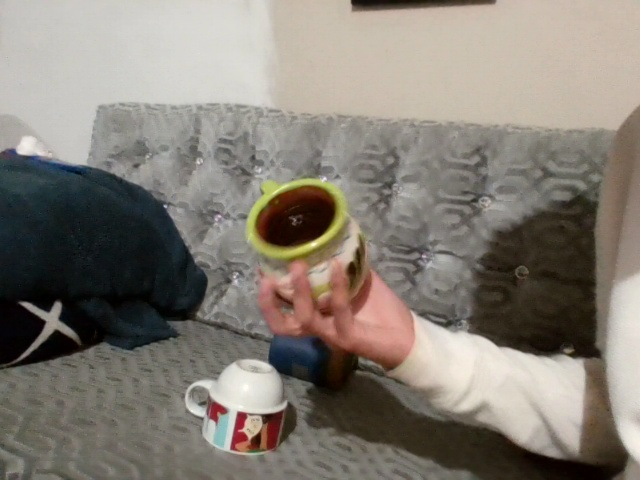botella: (209, 172, 380, 324), (182, 356, 311, 471)
